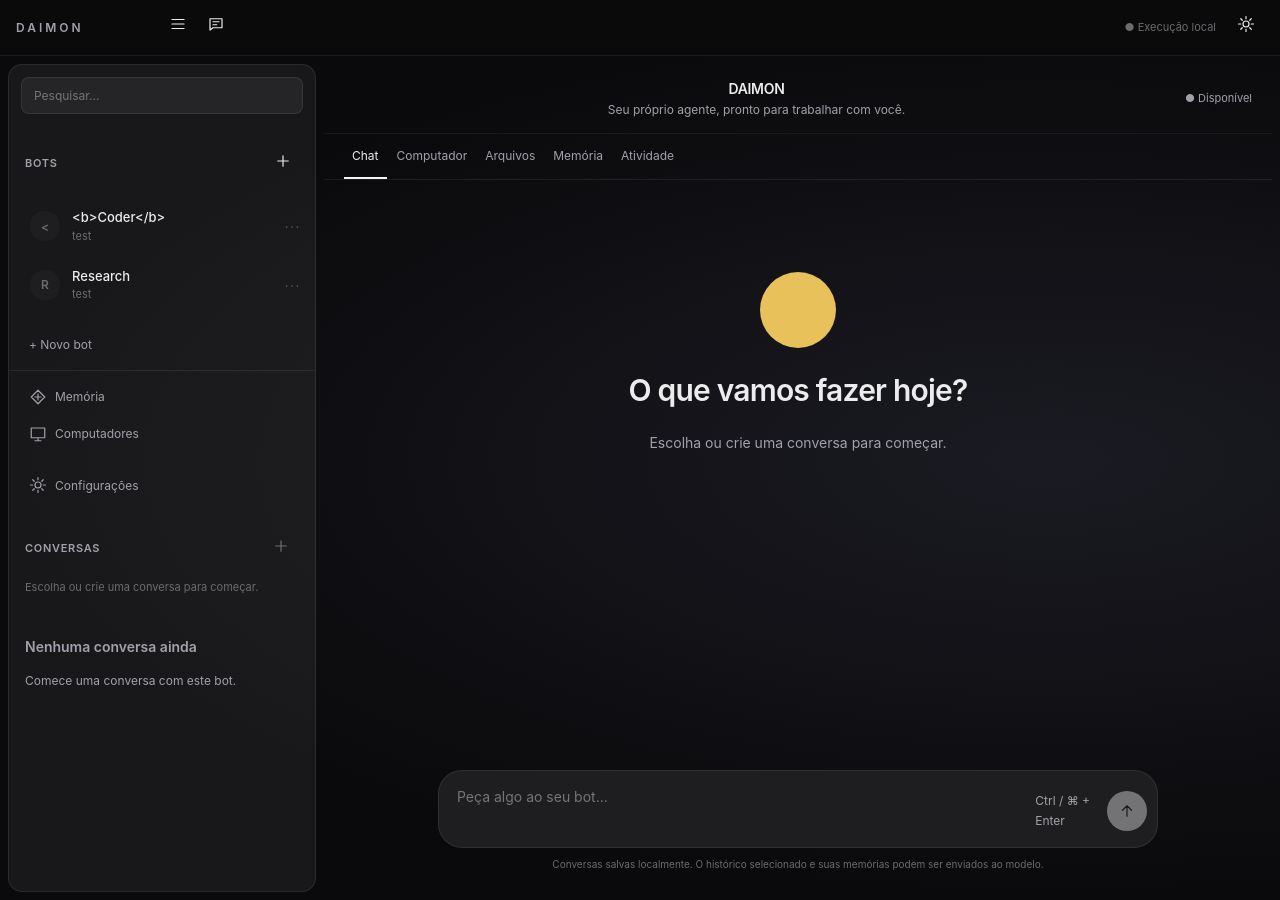
Test: renders lists as escaped text and clears Thread selection when changing Bots
The width and height of the screenshot is (1280, 900).
Click the text "<b>Coder</b>" at (119, 218), box [72, 207, 165, 228]
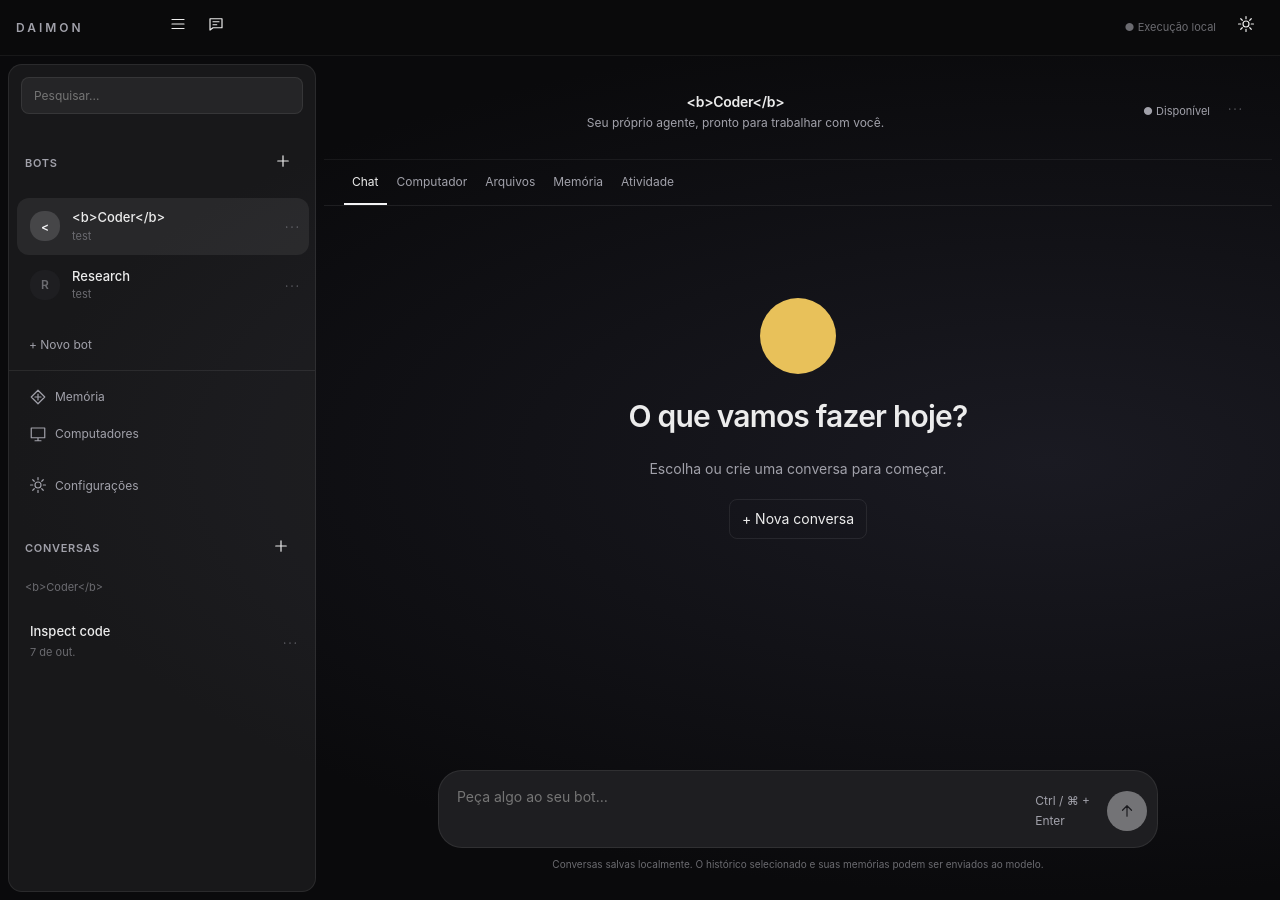
Click the text "Inspect code" at (70, 631), box [30, 623, 110, 639]
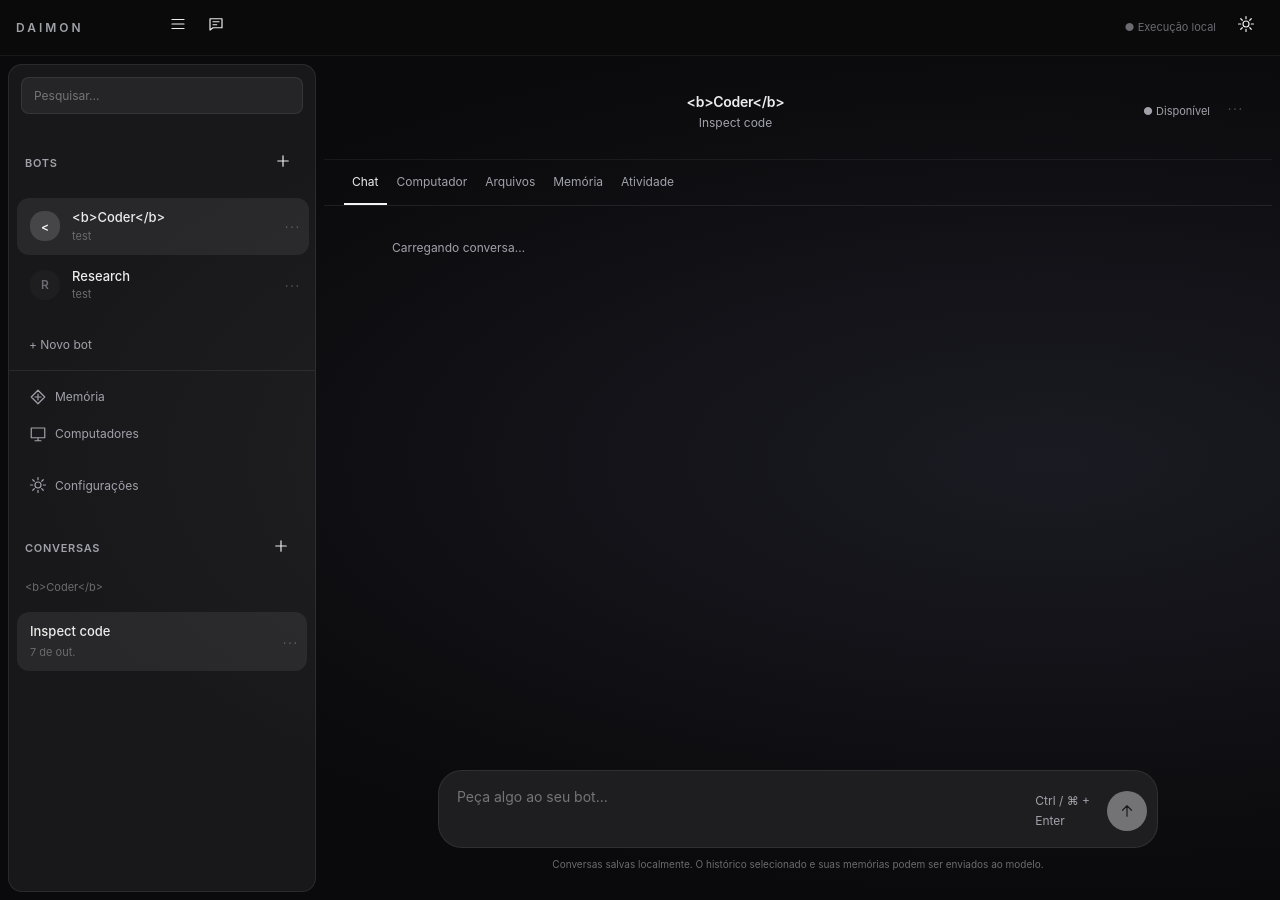
Expected: the text box named "Mensagem" is enabled, [457, 781, 1025, 837]
Click the text "Research" at (101, 276), box [72, 266, 130, 286]
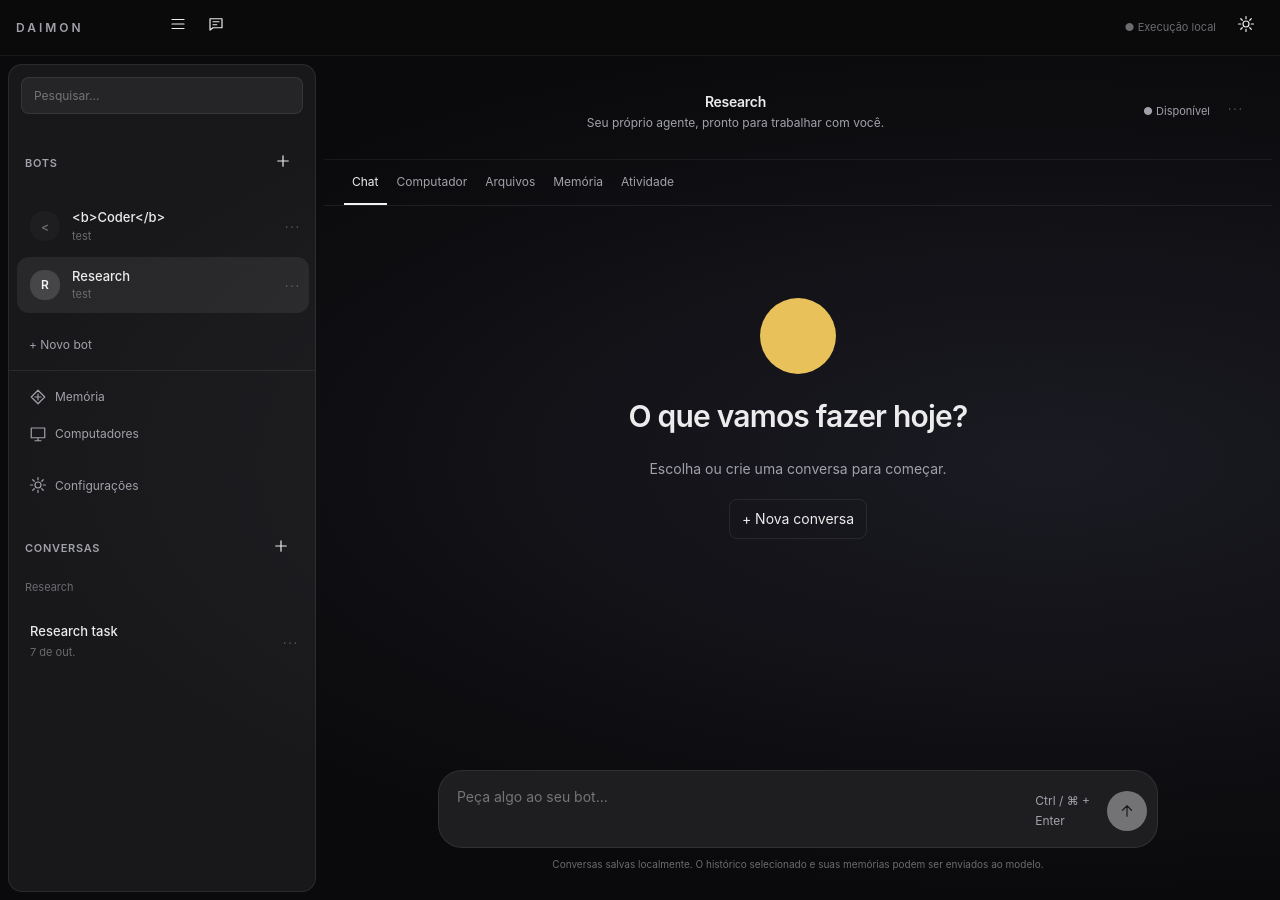
Expected: the text box named "Mensagem" is disabled, [457, 781, 1025, 837]
Result: the button "Inspect code" is gone
Result: the text "Research task" is shown at [30, 623, 118, 639]
